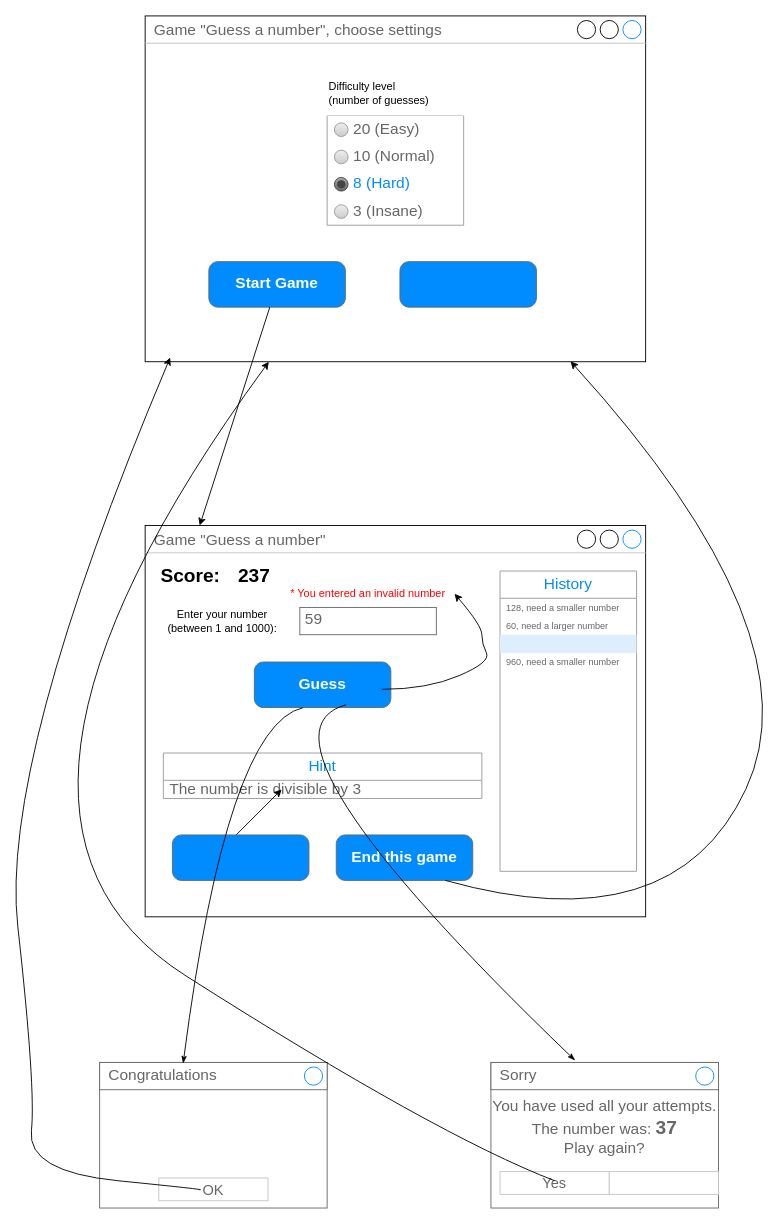
This 779x1224 diagram has some shape labels left out. Here are the shapes that lost their labels. From the top down, the centre of each, then its label:
At point 467,284: "Quit".
At point 568,643: "80, need a larger number".
At point 240,857: "Show hint".
At point 213,1135: "You guessed the number correctly. Great job!!! Your score is: 237".
At point 663,1182: "No".
